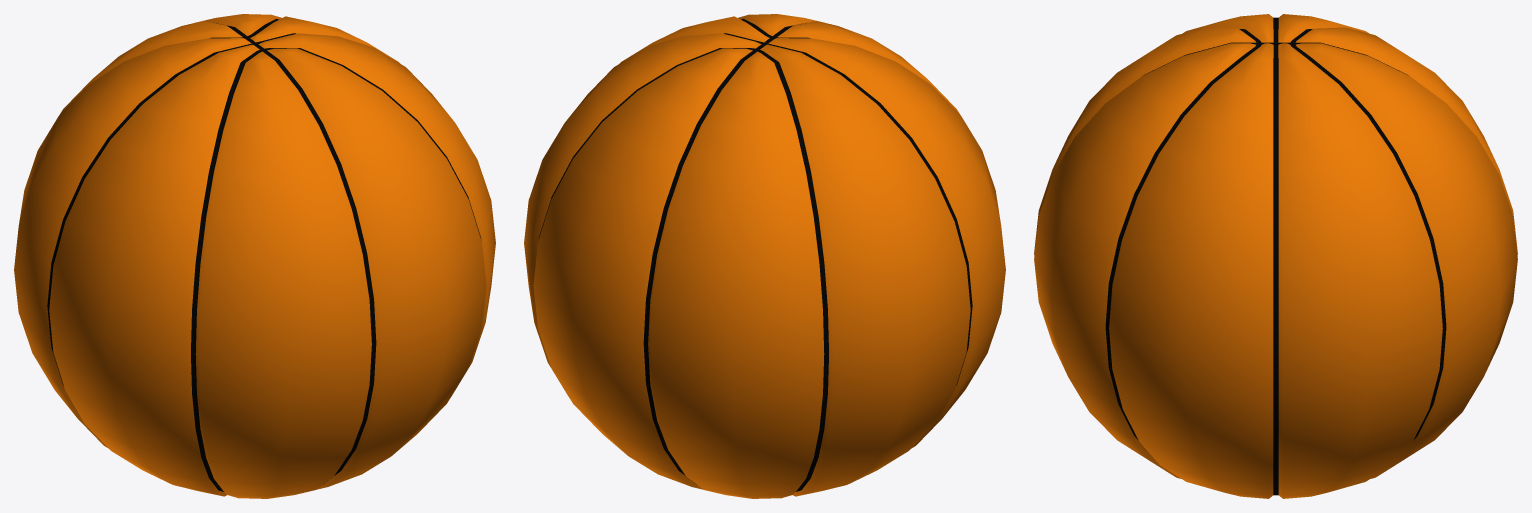
File: basketball.fbx
3 renders of one model, left to right at view 1: azimuth 30°, elevation 25°; view 2: azimuth 150°, elevation 25°; view 3: azimuth 270°, elevation 25°, orthographic.
Visible parts, largest first — view 1: basketball; view 2: basketball; view 3: basketball.
Boxes of the visible parts, bbox=[...] form: basketball: bbox=[14, 14, 495, 498]; basketball: bbox=[524, 14, 1005, 498]; basketball: bbox=[1034, 14, 1517, 498].
Bounding box in the file's own units: 94.6 × 93.32 × 94.6.
